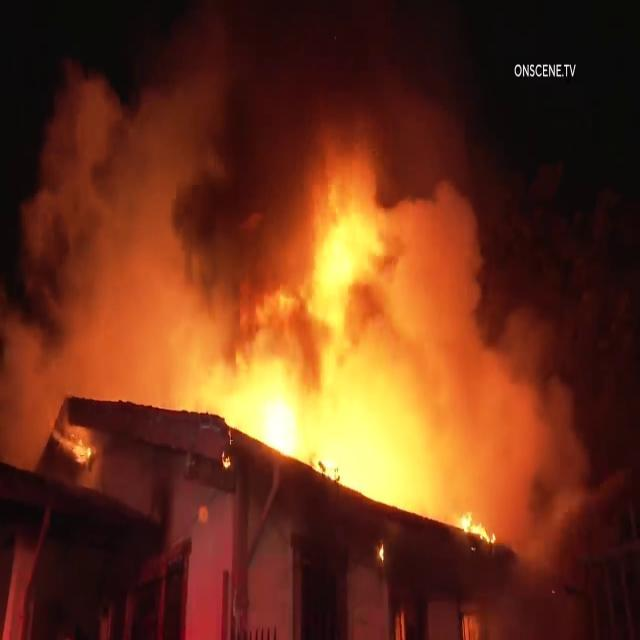Fire: (216, 340, 368, 495), (447, 476, 520, 554)
Smoke: (458, 224, 592, 586), (185, 28, 322, 265), (324, 27, 466, 193)
